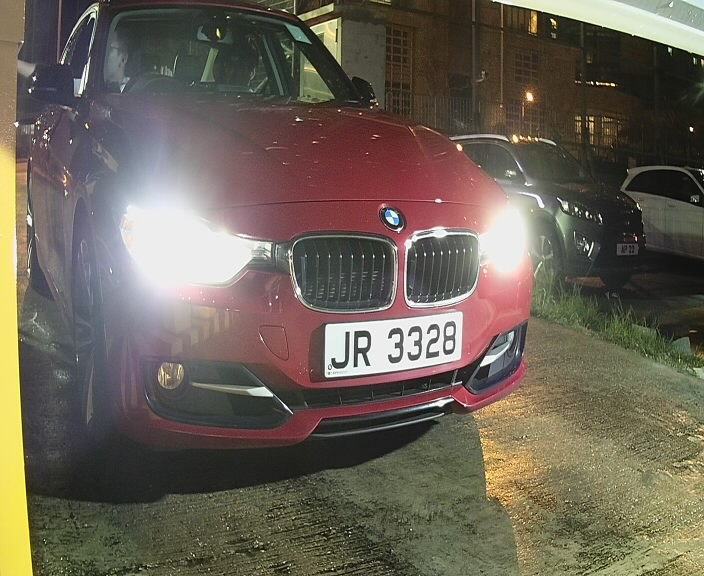License Plate: (317, 307, 473, 385)
